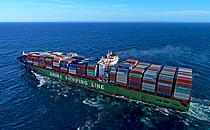Ship: (16, 47, 197, 117)
